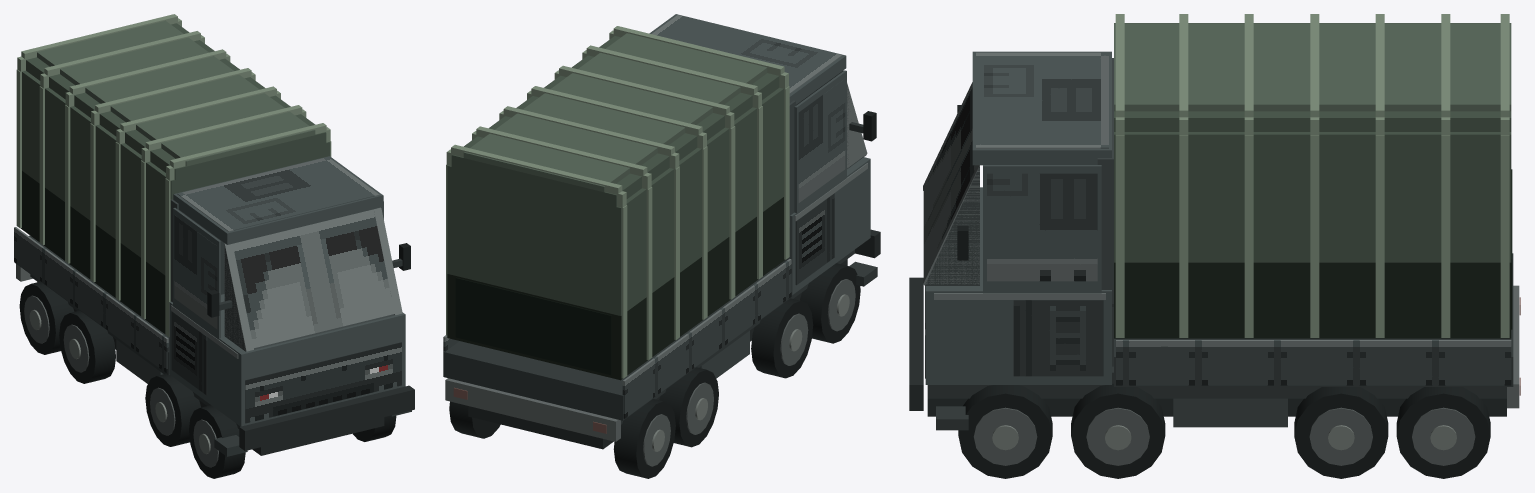
File: CMU3DAU14PropHemettTruckClosedBed.glb
3 views of the same model, side by side, from view 1: azimuth 30°, elevation 25°; view 2: azimuth 150°, elevation 25°; view 3: azimuth 270°, elevation 25° (orthographic). The views are drawn at different scales.
Visible parts, largest first — view 1: rounded canvas crown, continuous sloped divided windscreen, canvas covered volume, cab lower body, roof hatches and vents, canvas lower shadow, front grille and lamps, canvas tie-down strap (×7), cargo skirt panel, canvas transverse strap (×7), rounded cover shoulder, front bumper (+20 smaller); view 2: canvas covered volume, rounded canvas crown, canvas lower shadow, rear flap darker lower opening, cargo deck structure, canvas tie-down strap (×7), cargo skirt panel, canvas transverse strap (×7), rounded cover shoulder, roof hatches and vents, cab side glazing, rear bumper (+19 smaller); view 3: canvas covered volume, rounded canvas crown, canvas lower shadow, cargo skirt panel, canvas tie-down strap (×7), roof hatches and vents, cab side glazing, cab lower body, rounded cover shoulder, door vents and marker, canvas transverse strap (×7), long chassis beam (+21 smaller).
Part boxes in pixels (left/top/right/bottom): rounded canvas crown: left=37, top=21, right=315, bottom=166; continuous sloped divided windscreen: left=232, top=209, right=394, bottom=347; canvas covered volume: left=22, top=70, right=330, bottom=275; cab lower body: left=169, top=294, right=405, bottom=426; roof hatches and vents: left=177, top=157, right=379, bottom=231; canvas lower shadow: left=21, top=171, right=165, bottom=333; front grille and lamps: left=245, top=342, right=401, bottom=423; canvas tie-down strap (×7): left=16, top=69, right=170, bottom=336; cargo skirt panel: left=14, top=227, right=168, bottom=373; canvas transverse strap (×7): left=33, top=16, right=315, bottom=160; rounded cover shoulder: left=26, top=23, right=326, bottom=179; front bumper: left=239, top=385, right=414, bottom=450; canvas covered volume: left=447, top=87, right=783, bottom=315; rounded canvas crown: left=463, top=33, right=767, bottom=192; canvas lower shadow: left=447, top=197, right=784, bottom=380; rear flap darker lower opening: left=455, top=277, right=611, bottom=375; cargo deck structure: left=443, top=268, right=790, bottom=420; canvas tie-down strap (×7): left=621, top=86, right=789, bottom=378; cargo skirt panel: left=622, top=259, right=791, bottom=418; canvas transverse strap (×7): left=463, top=28, right=772, bottom=186; rounded cover shoulder: left=451, top=36, right=779, bottom=206; roof hatches and vents: left=652, top=15, right=842, bottom=93; cab side glazing: left=798, top=78, right=845, bottom=202; rear bumper: left=445, top=378, right=620, bottom=441; canvas covered volume: left=1114, top=132, right=1511, bottom=262; rounded canvas crown: left=1114, top=23, right=1511, bottom=111; canvas lower shadow: left=1114, top=262, right=1511, bottom=338; cargo skirt panel: left=1116, top=340, right=1511, bottom=385; canvas tie-down strap (×7): left=1115, top=135, right=1509, bottom=337; roof hatches and vents: left=976, top=52, right=1108, bottom=148; cab side glazing: left=987, top=173, right=1097, bottom=281; cab lower body: left=925, top=187, right=1111, bottom=384; rounded cover shoulder: left=1114, top=23, right=1511, bottom=131; door vents and marker: left=1013, top=300, right=1103, bottom=376; canvas transverse strap (×7): left=1115, top=21, right=1509, bottom=103; long chassis beam: left=927, top=366, right=1506, bottom=398.
Bounding box in the file's own units: 1.46 × 1.95 × 2.99.
24 materials, 9 textured.
